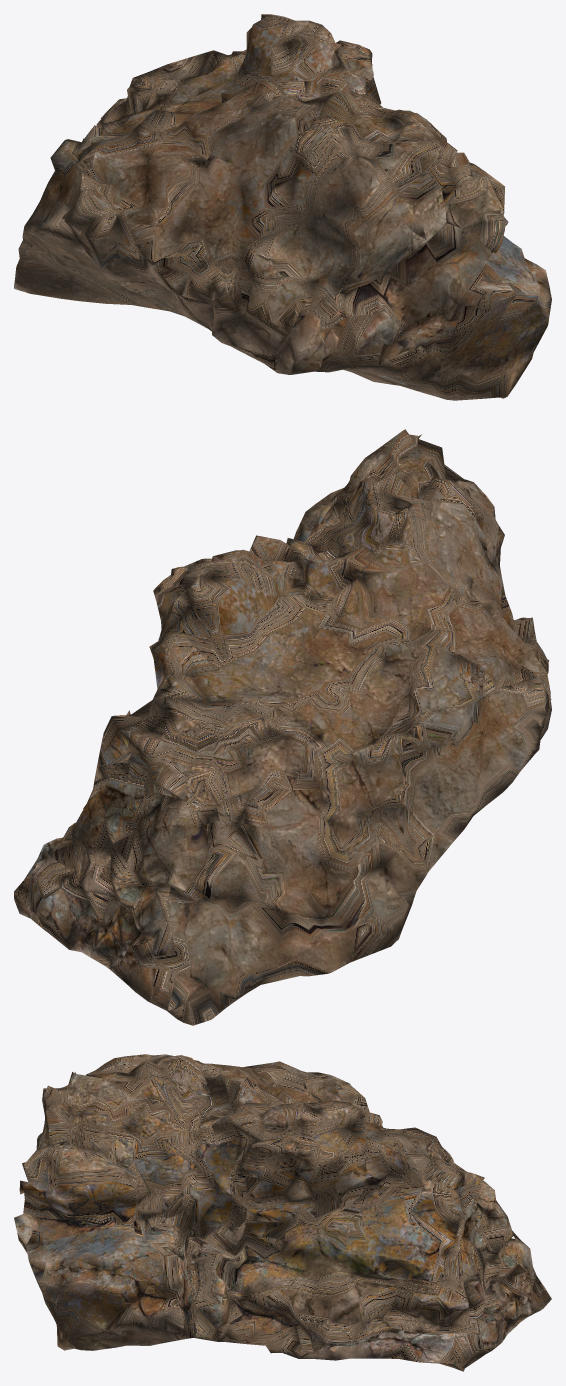
The model's file is acantilado_03.glb.
3 views of the same model, one above another, from view 1: azimuth 30°, elevation 25°; view 2: azimuth 150°, elevation 25°; view 3: azimuth 270°, elevation 25° (orthographic). The views are drawn at different scales.
Visible parts, largest first — view 1: boulder_01; view 2: boulder_01; view 3: boulder_01.
Boxes of the visible parts, left/top/right/bottom form: boulder_01: left=14, top=14, right=551, bottom=400; boulder_01: left=14, top=429, right=551, bottom=1025; boulder_01: left=14, top=1054, right=551, bottom=1371.
Bounding box in the file's own units: 4.01 × 3.2 × 5.83.
Materials: 1 (1 with a texture image).
